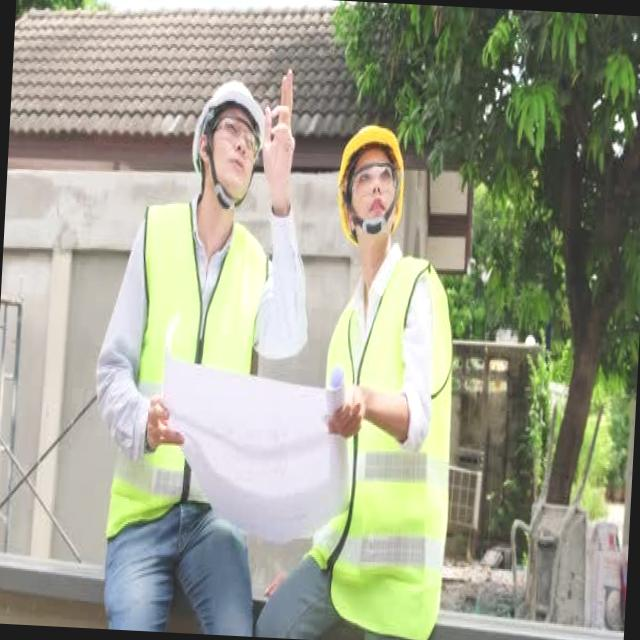goggles: (211, 115, 263, 160), (346, 159, 401, 194)
helmet: (336, 114, 412, 238), (190, 72, 270, 187)
vest: (302, 248, 463, 640), (104, 195, 274, 551)
